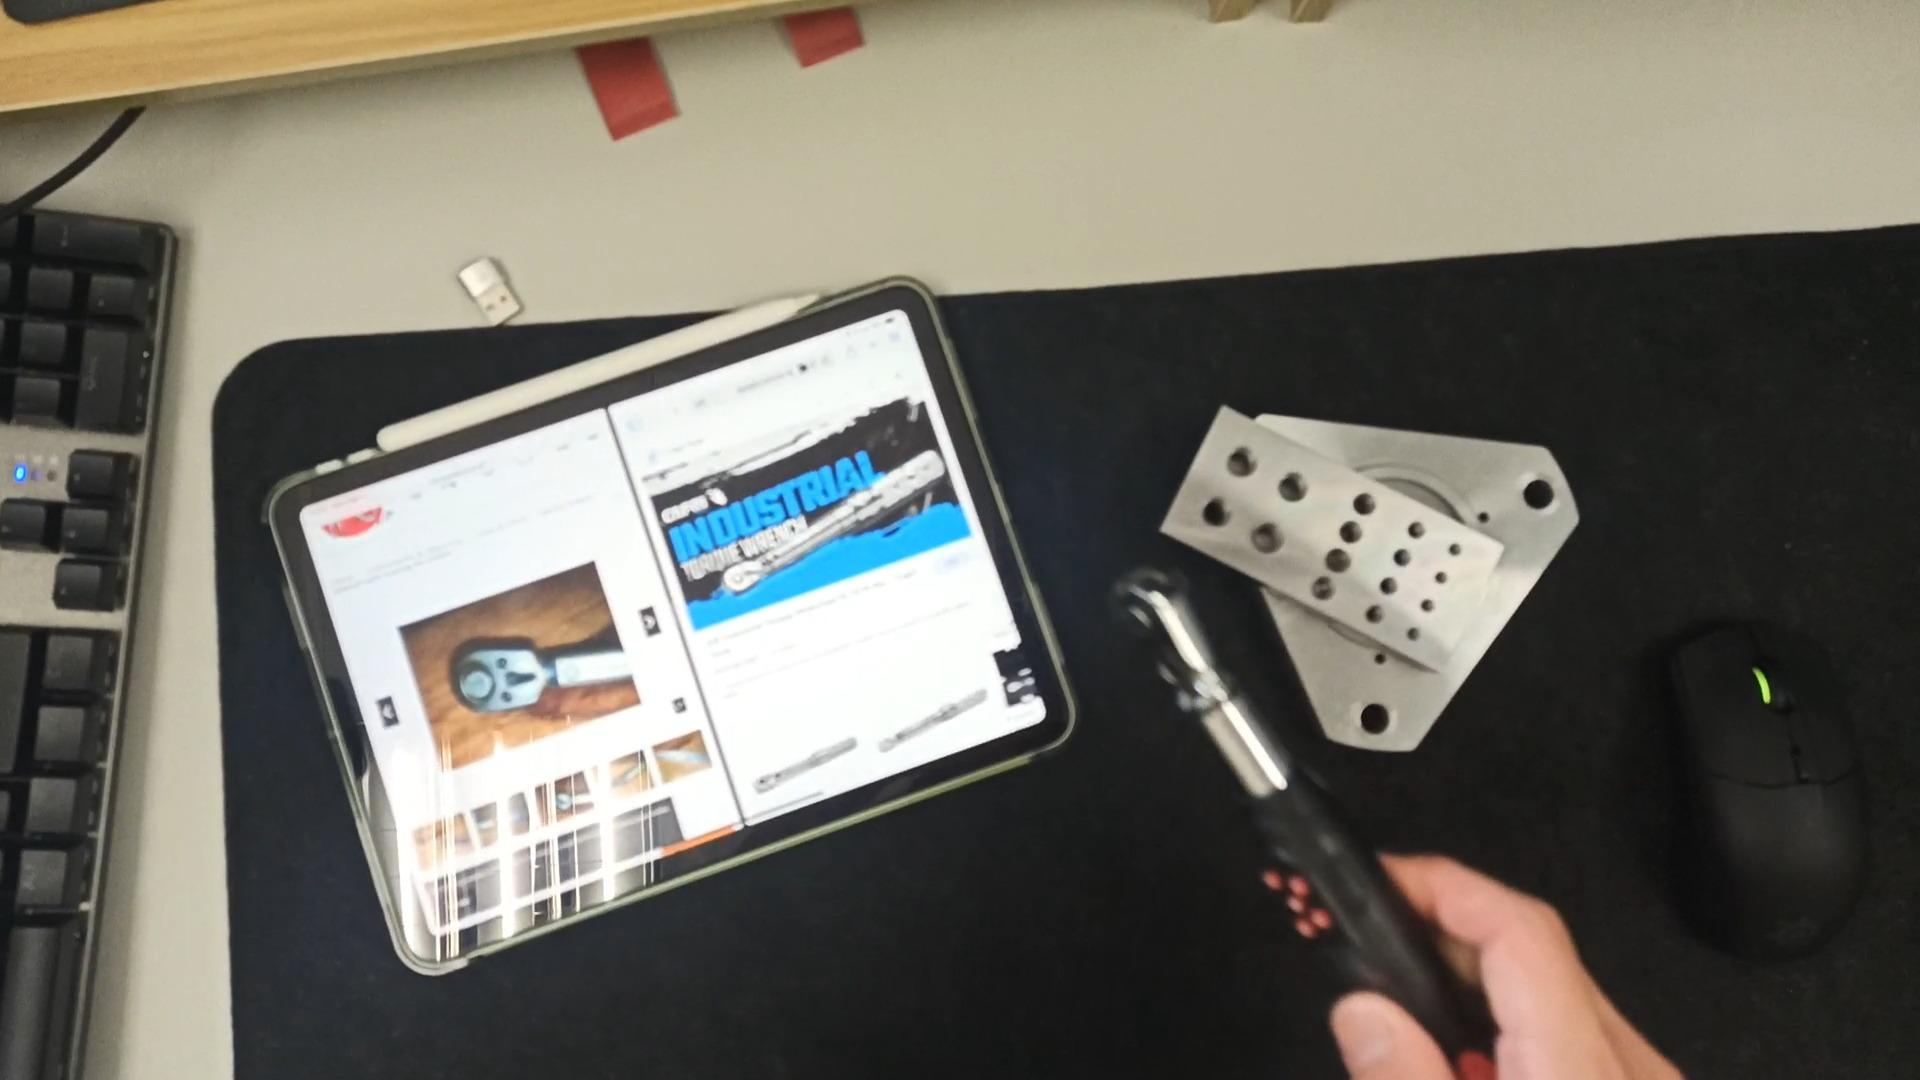hole: (1348, 700, 1411, 744), (1515, 473, 1572, 518), (1212, 436, 1271, 476), (1191, 489, 1245, 529), (1247, 514, 1300, 553), (1266, 463, 1317, 500), (1321, 543, 1366, 572), (1345, 484, 1390, 513), (1331, 516, 1377, 543), (1308, 574, 1349, 601), (1369, 574, 1407, 599), (1404, 512, 1441, 534), (1360, 607, 1396, 628), (1389, 545, 1423, 567), (1443, 539, 1476, 558), (1432, 570, 1464, 588), (1407, 624, 1439, 642), (1418, 601, 1449, 620)
